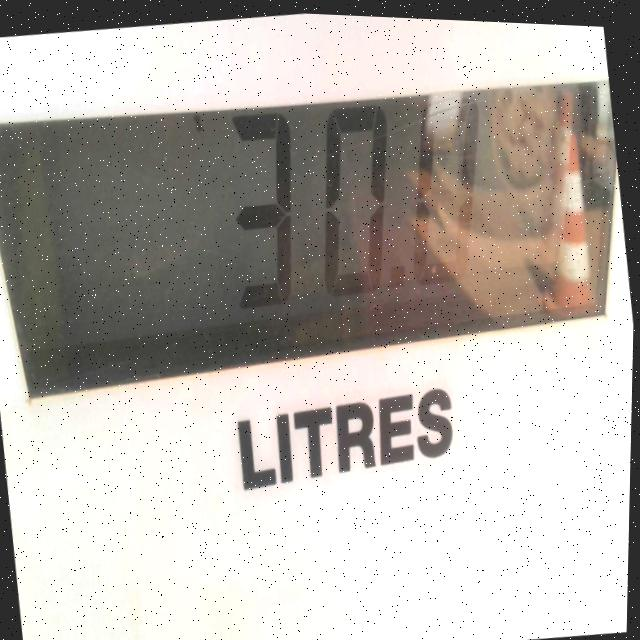.: (390, 256, 407, 288)
0: (401, 86, 504, 291), (309, 102, 398, 292)
1: (517, 84, 572, 263)
3: (229, 112, 312, 303)
